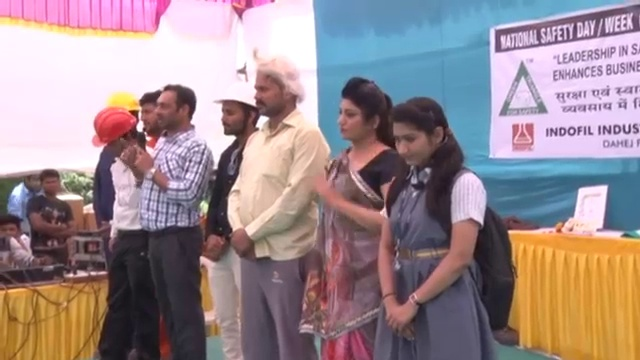helmet: (90, 109, 138, 147), (211, 74, 257, 111), (103, 91, 139, 111)
helmet_off: (385, 94, 453, 178), (244, 60, 310, 119), (335, 76, 390, 146), (154, 85, 196, 138), (227, 77, 257, 132), (139, 90, 161, 145), (35, 169, 58, 202), (0, 215, 26, 241), (21, 171, 44, 193)
helmet_on: (212, 80, 256, 142), (89, 109, 138, 156)
person: (372, 90, 517, 357), (226, 59, 330, 360), (315, 74, 402, 360), (121, 93, 203, 360), (90, 108, 162, 360), (207, 77, 259, 356), (27, 171, 75, 266), (5, 170, 45, 216)
